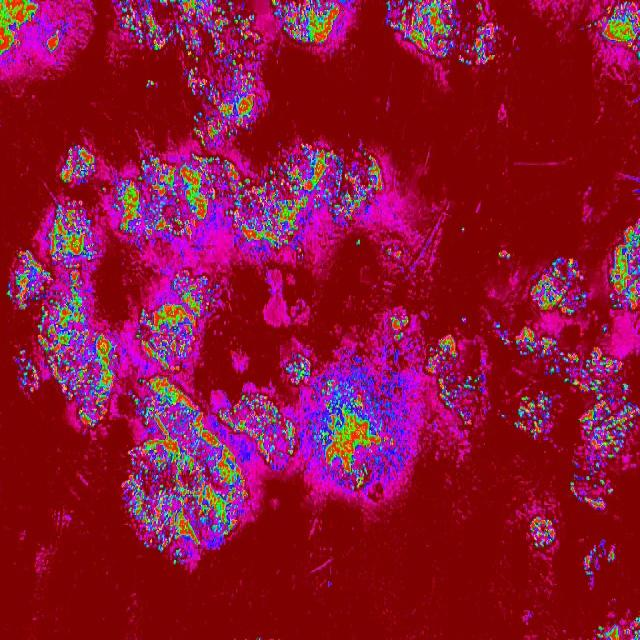fire: (119, 144, 382, 250), (121, 378, 252, 570), (38, 144, 118, 432), (566, 346, 640, 512), (312, 370, 409, 490), (134, 268, 220, 368), (115, 0, 261, 55), (381, 0, 500, 66), (184, 54, 268, 147), (422, 334, 485, 424), (252, 389, 298, 477), (272, 0, 352, 50), (529, 256, 587, 319), (586, 0, 640, 62), (512, 320, 566, 378), (609, 220, 640, 310), (0, 0, 40, 61), (5, 248, 40, 312), (578, 534, 620, 586), (514, 393, 554, 439), (10, 350, 40, 399), (528, 513, 558, 551), (44, 23, 70, 59), (286, 352, 312, 383), (388, 314, 414, 344), (590, 622, 620, 640), (492, 322, 509, 350), (624, 614, 640, 640), (386, 244, 404, 261), (142, 77, 158, 91), (498, 248, 514, 262), (458, 314, 468, 327), (498, 411, 508, 421), (458, 225, 467, 235), (602, 325, 609, 334)
